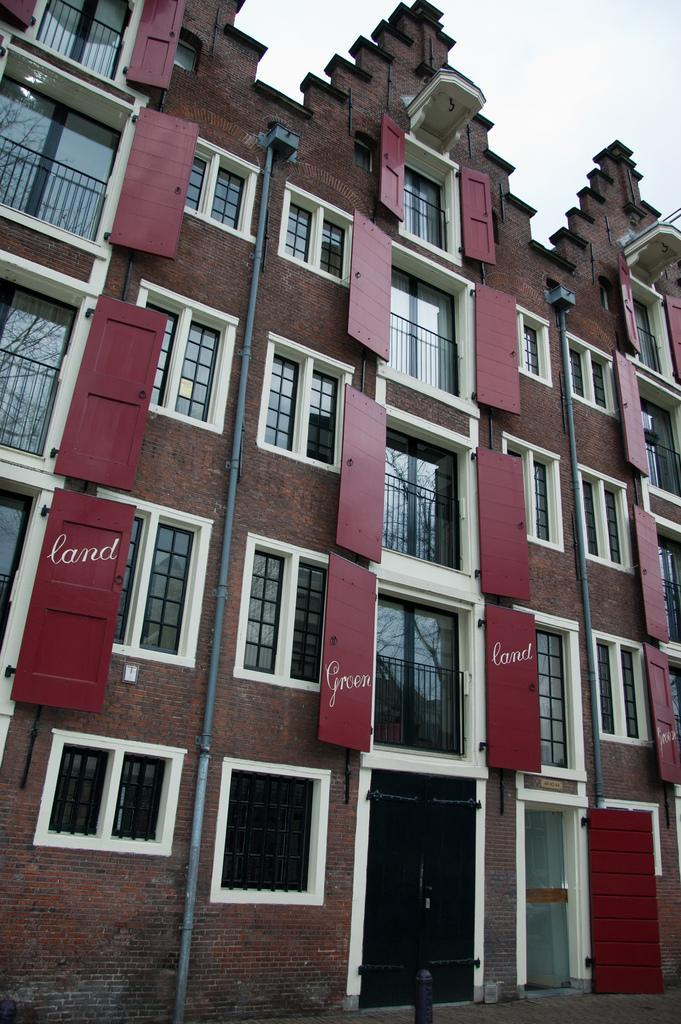door: (371, 778, 418, 1003), (425, 782, 476, 983)
